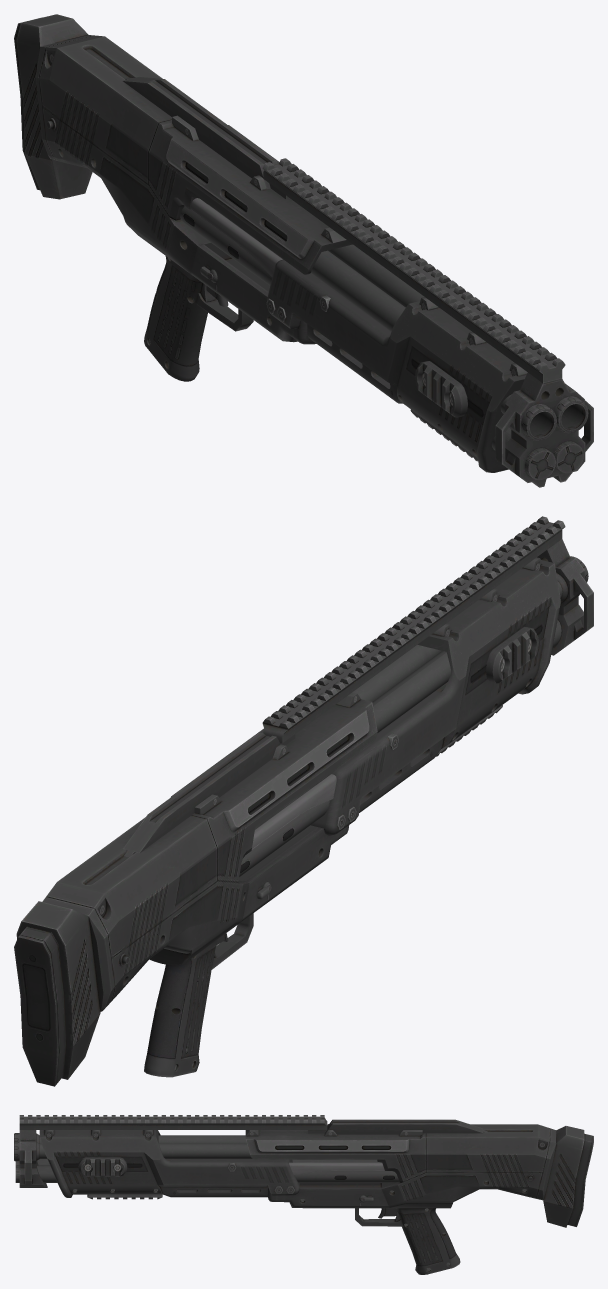
File: raw.glb
3 renders of one model, top to bottom at view 1: azimuth 30°, elevation 25°; view 2: azimuth 150°, elevation 25°; view 3: azimuth 270°, elevation 25°, orthographic. The views are drawn at different scales.
Parts seen in each view (by area): view 1: dp12_LOD0; view 2: dp12_LOD0; view 3: dp12_LOD0.
Boxes of the visible parts, bbox=[...] form: dp12_LOD0: bbox=[14, 14, 593, 487]; dp12_LOD0: bbox=[14, 516, 593, 1086]; dp12_LOD0: bbox=[14, 1115, 593, 1274].
Bounding box in the file's own units: 0.0753 × 0.2213 × 0.7479.
1 material, 1 textured.
